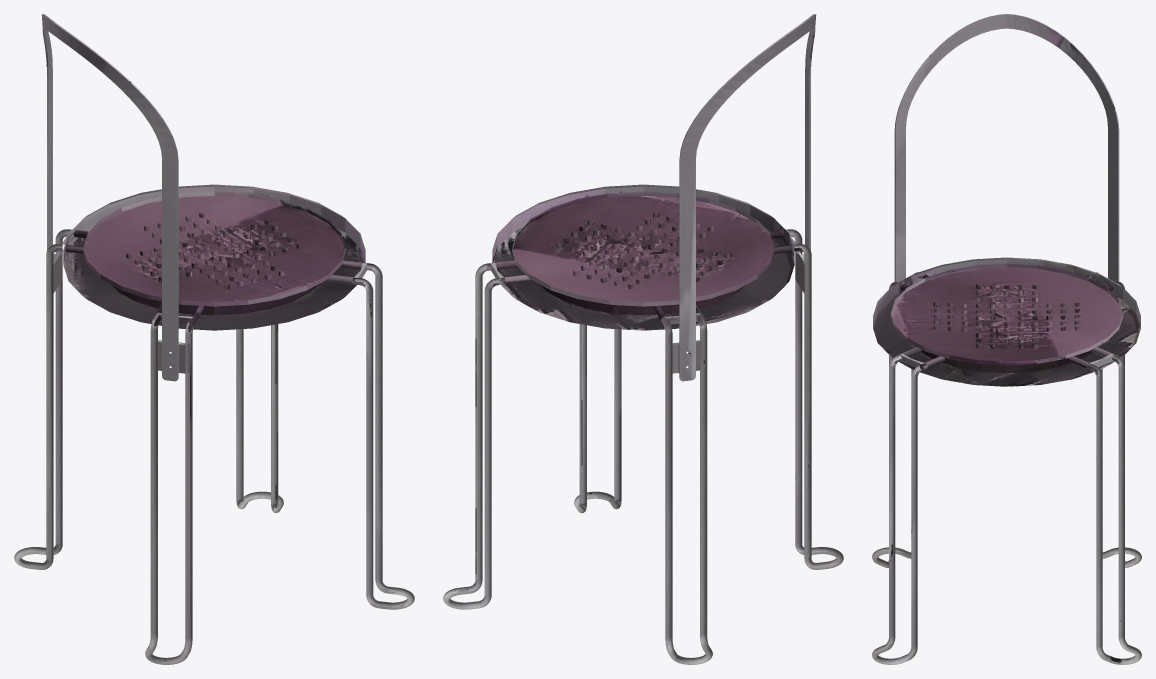
The picture shows the model from 3 angles, left to right: view 1: azimuth 30°, elevation 25°; view 2: azimuth 150°, elevation 25°; view 3: azimuth 270°, elevation 25°; orthographic projection. The views are drawn at different scales.
Parts seen in each view (by area): view 1: Node; view 2: Node; view 3: Node.
Boxes of the visible parts, x1=… form: Node: x1=14, y1=14, x2=414, y2=664; Node: x1=443, y1=14, x2=843, y2=664; Node: x1=872, y1=14, x2=1141, y2=664.
Bounding box in the file's own units: 0.3565 × 0.7 × 0.3248.
1 material, 1 textured.
